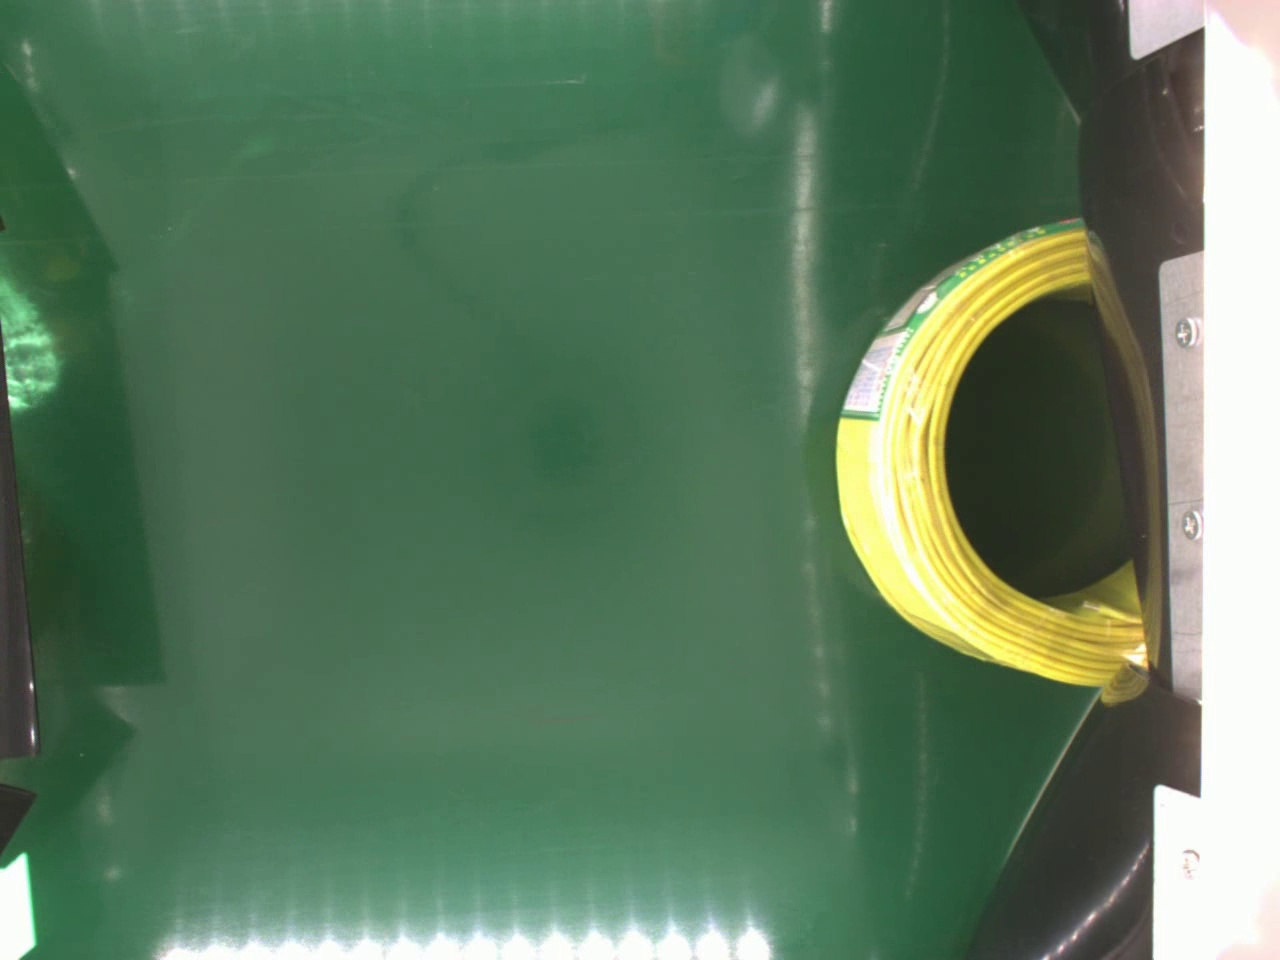yellow: (833, 219, 1144, 690)
